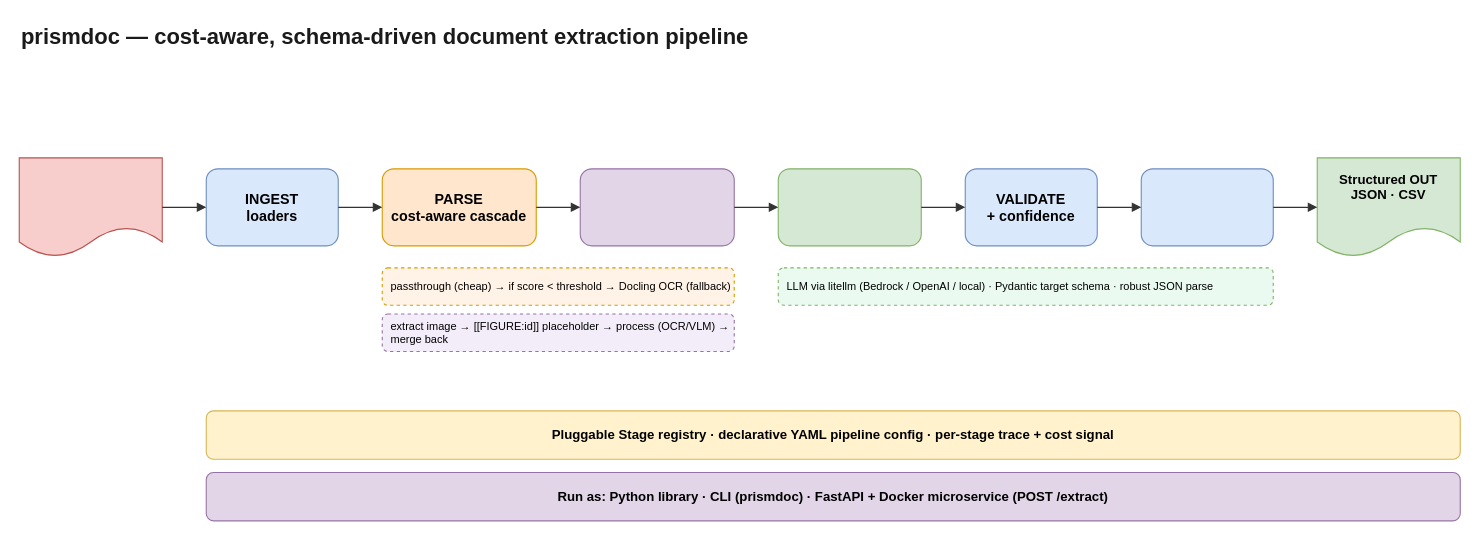
The diagram is 1480 pixels wide and 540 high, and some of its shapes have lost their labels. The shapes that lost their labels are listed below. From the top down, each one's centre as x and y in pixels, then its label:
At [90,207]: "Document IN pdf · image · xlsx".
At [656,207]: "FIGURE sub-pipeline".
At [849,207]: "EXTRACT schema-driven".
At [1206,207]: "NORMALIZE units · dedup".
